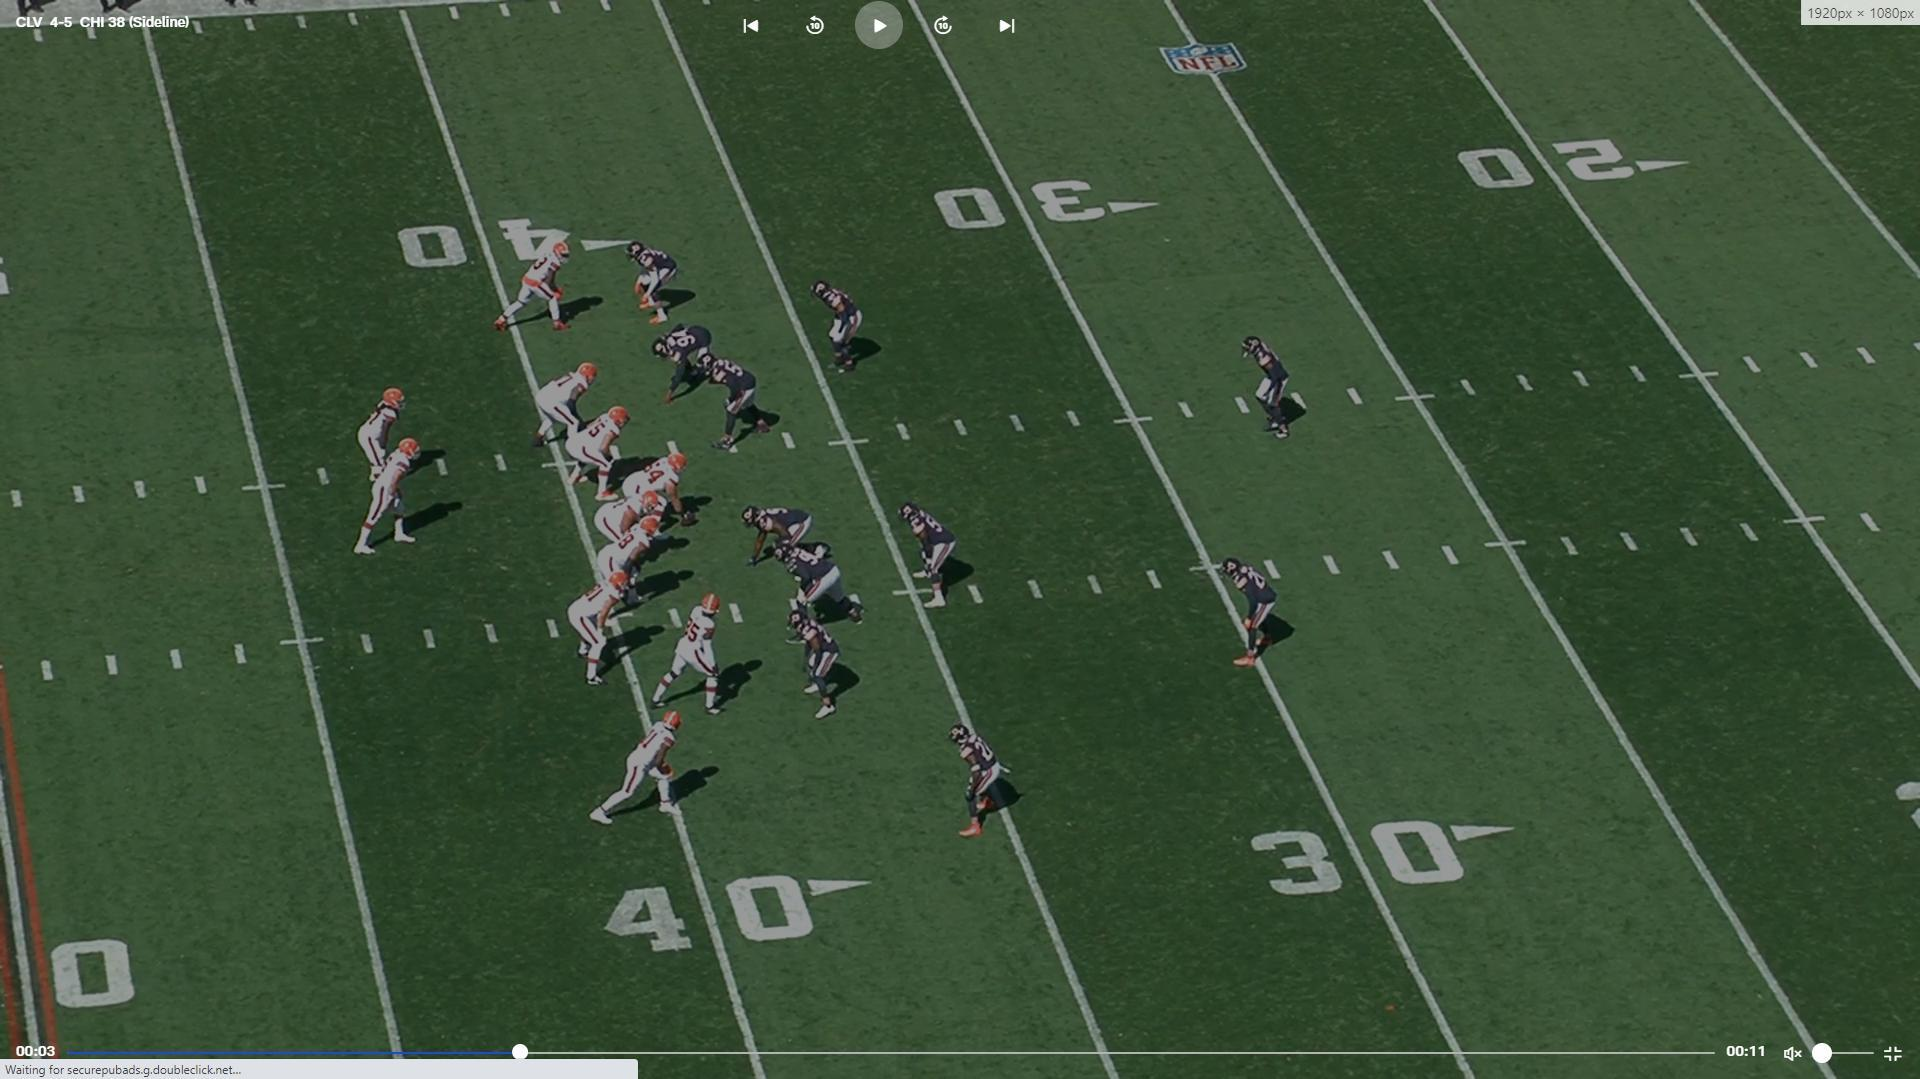defense: (691, 350, 781, 455), (777, 541, 870, 631), (787, 596, 855, 720), (899, 497, 969, 615), (947, 720, 1014, 842), (1224, 550, 1287, 675), (1244, 330, 1305, 442), (625, 237, 694, 330), (811, 276, 872, 379), (738, 501, 823, 571), (647, 323, 721, 402)
oline: (609, 445, 695, 530), (563, 404, 629, 505), (527, 361, 597, 456), (596, 522, 663, 605), (597, 487, 673, 550)
qb: (356, 433, 430, 555)
skill: (589, 708, 690, 831), (646, 588, 729, 714), (492, 236, 575, 338), (567, 575, 636, 691), (357, 384, 406, 487)
